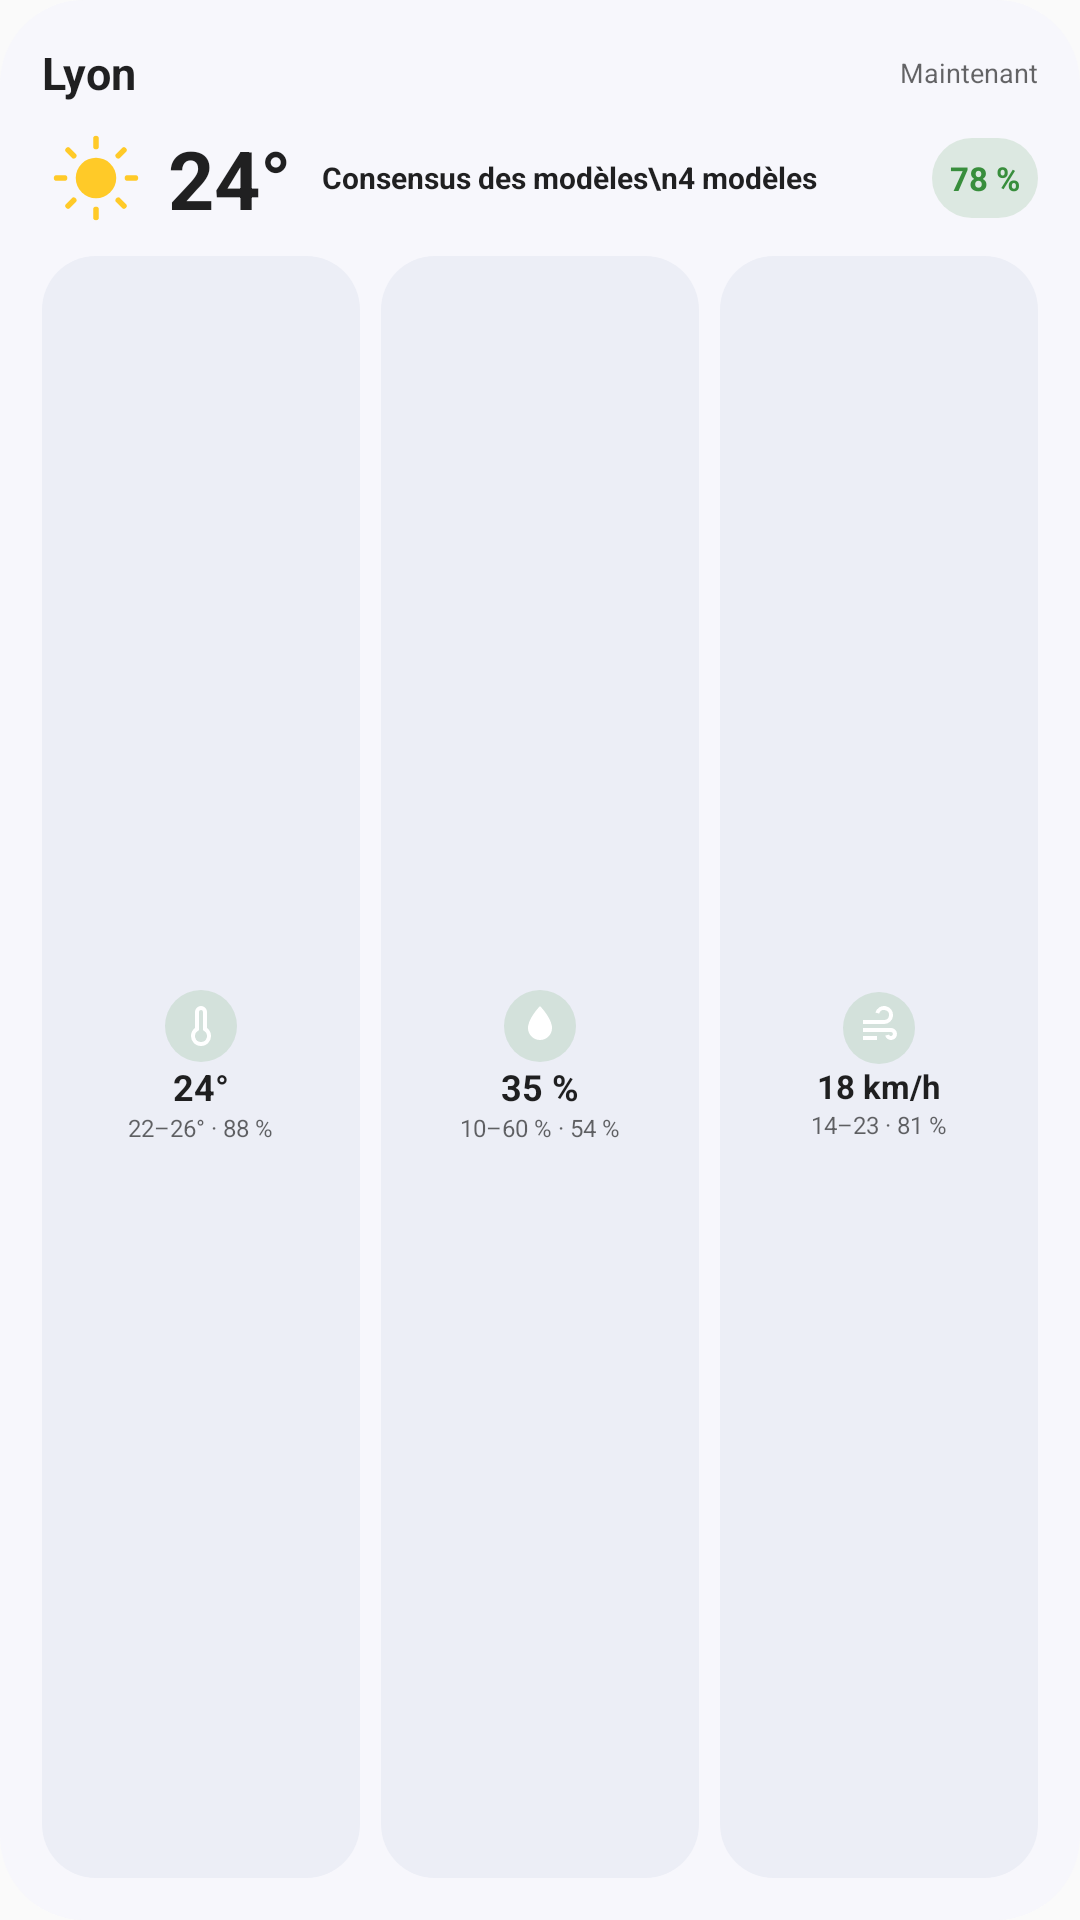

Screen size 1080w x 1920h. Icon name, then its box in pixels as [left=x1, top=y1, right=x2, bottom=y2]:
widget value rain: [left=504, top=990, right=576, bottom=1062]
widget value temperature: [left=165, top=990, right=237, bottom=1062]
widget value wind: [left=843, top=992, right=915, bottom=1064]
widget weather sun: [left=53, top=135, right=139, bottom=221]
